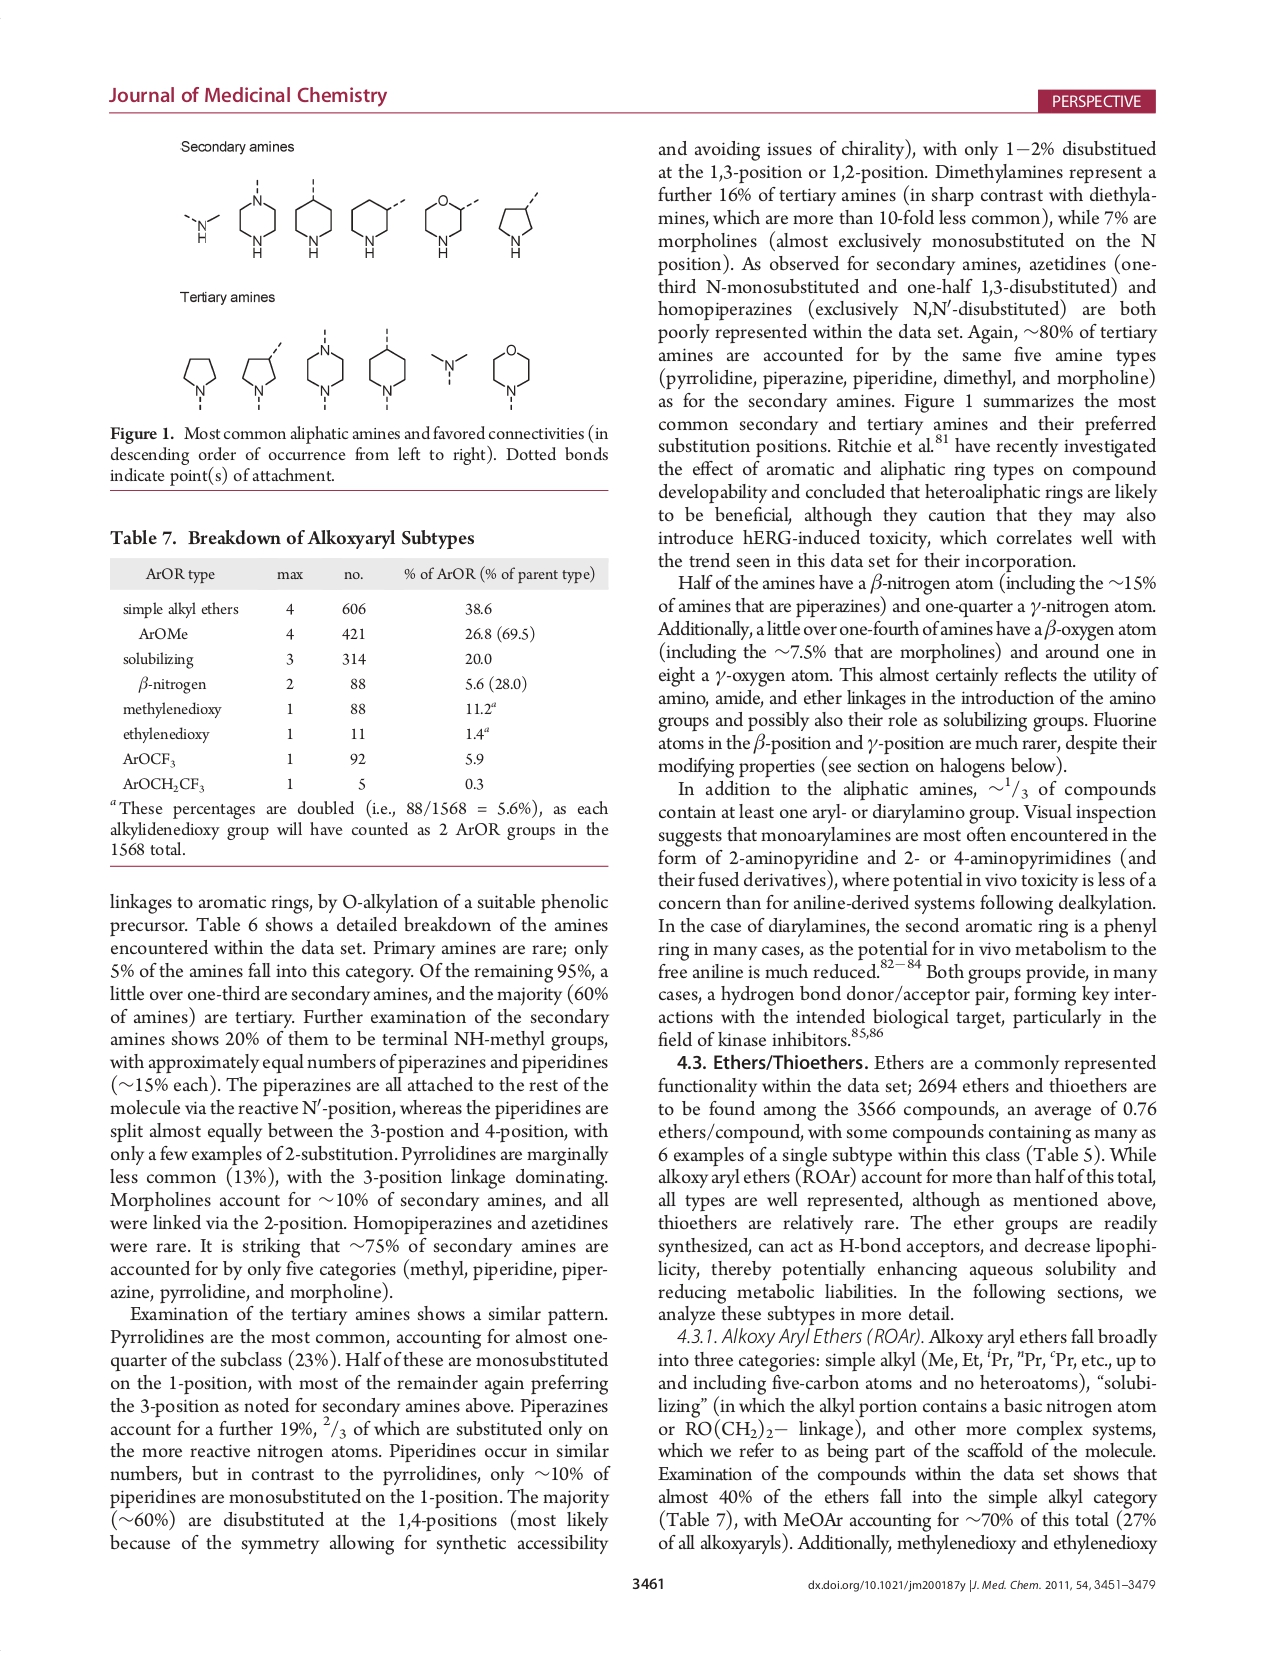exist_molecular: (422, 190, 481, 263), (305, 324, 350, 418), (235, 176, 281, 261), (348, 195, 407, 261), (367, 324, 410, 412), (293, 177, 335, 261), (239, 336, 285, 415), (493, 189, 543, 261), (487, 339, 533, 414), (180, 351, 217, 414), (426, 347, 471, 387), (181, 205, 221, 247)
